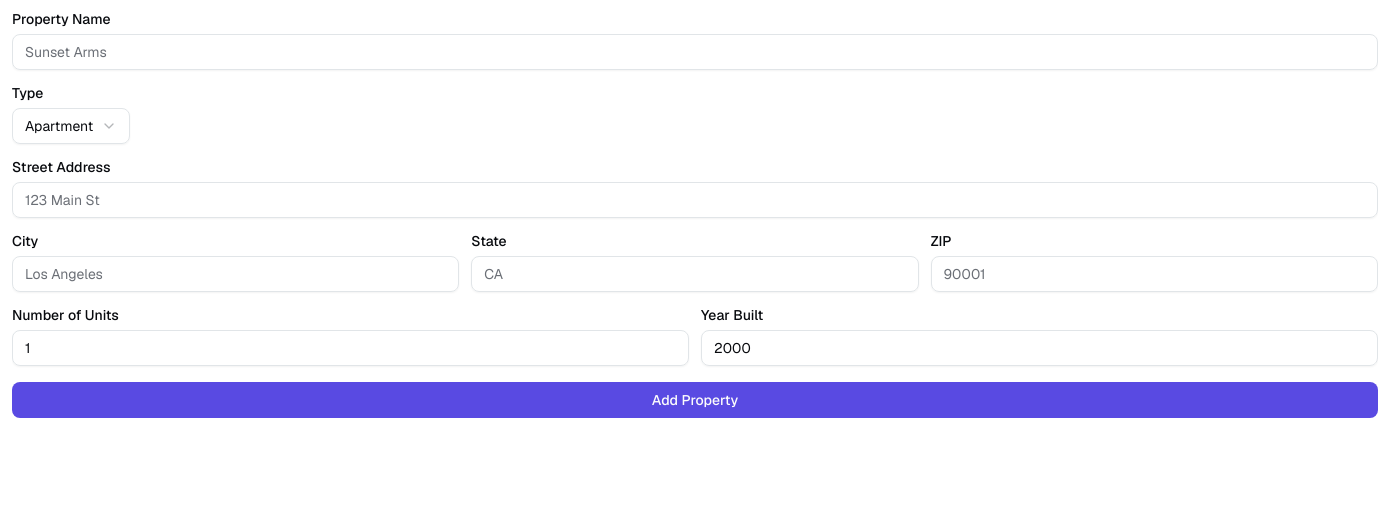
Test: PropertyForm › shows validation errors when submitted empty
Click the button "Add Property" at (695, 400), box [12,382,1378,418]
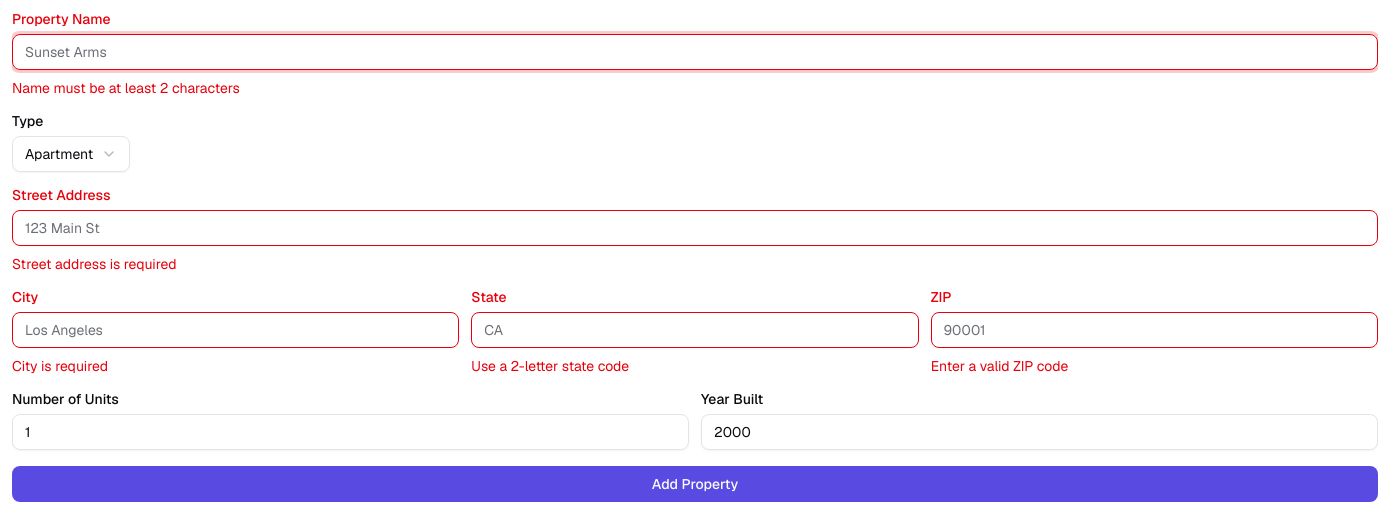
Now the text "Name must be at least 2 characters" is shown, box [12,79,240,97]
